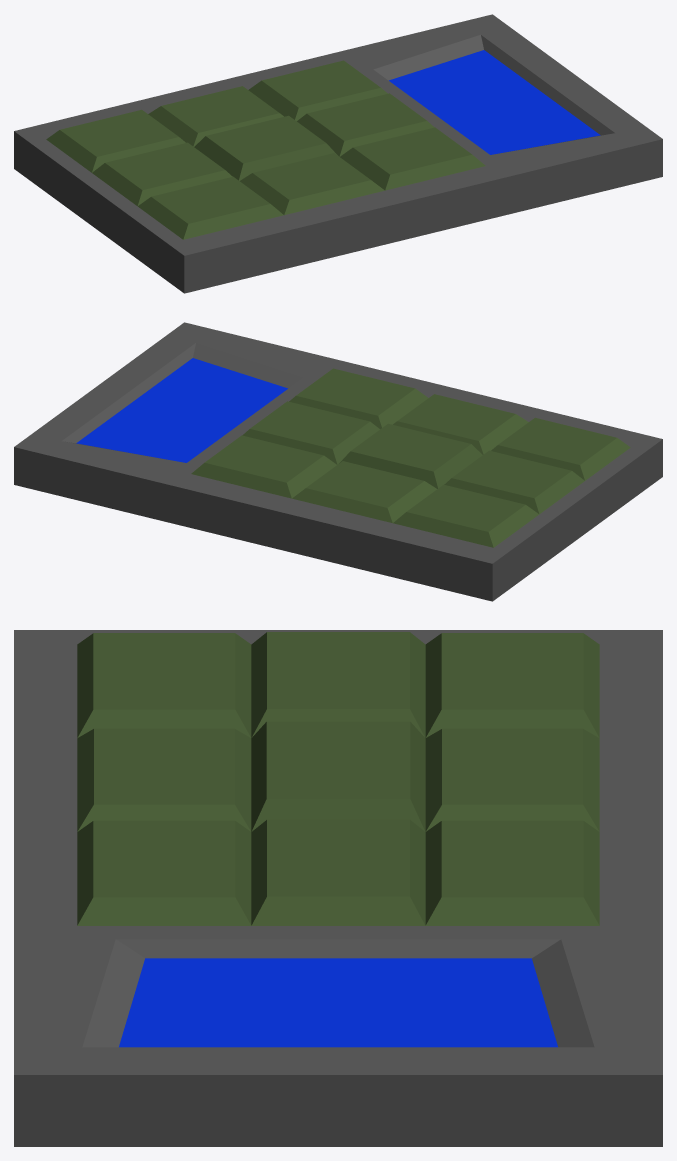
File: part2_passcode.fbx
3 renders of one model, top to bottom at view 1: azimuth 30°, elevation 25°; view 2: azimuth 150°, elevation 25°; view 3: azimuth 270°, elevation 25°, orthographic. The views are drawn at different scales.
Visible parts, largest first — view 1: Cube.002; view 2: Cube.002; view 3: Cube.002.
Boxes of the visible parts, <box> form: Cube.002: <box>14,14,662,293</box>; Cube.002: <box>14,322,662,601</box>; Cube.002: <box>14,630,662,1146</box>.
Bounding box in the file's own units: 63.91 × 6.5 × 39.41.
